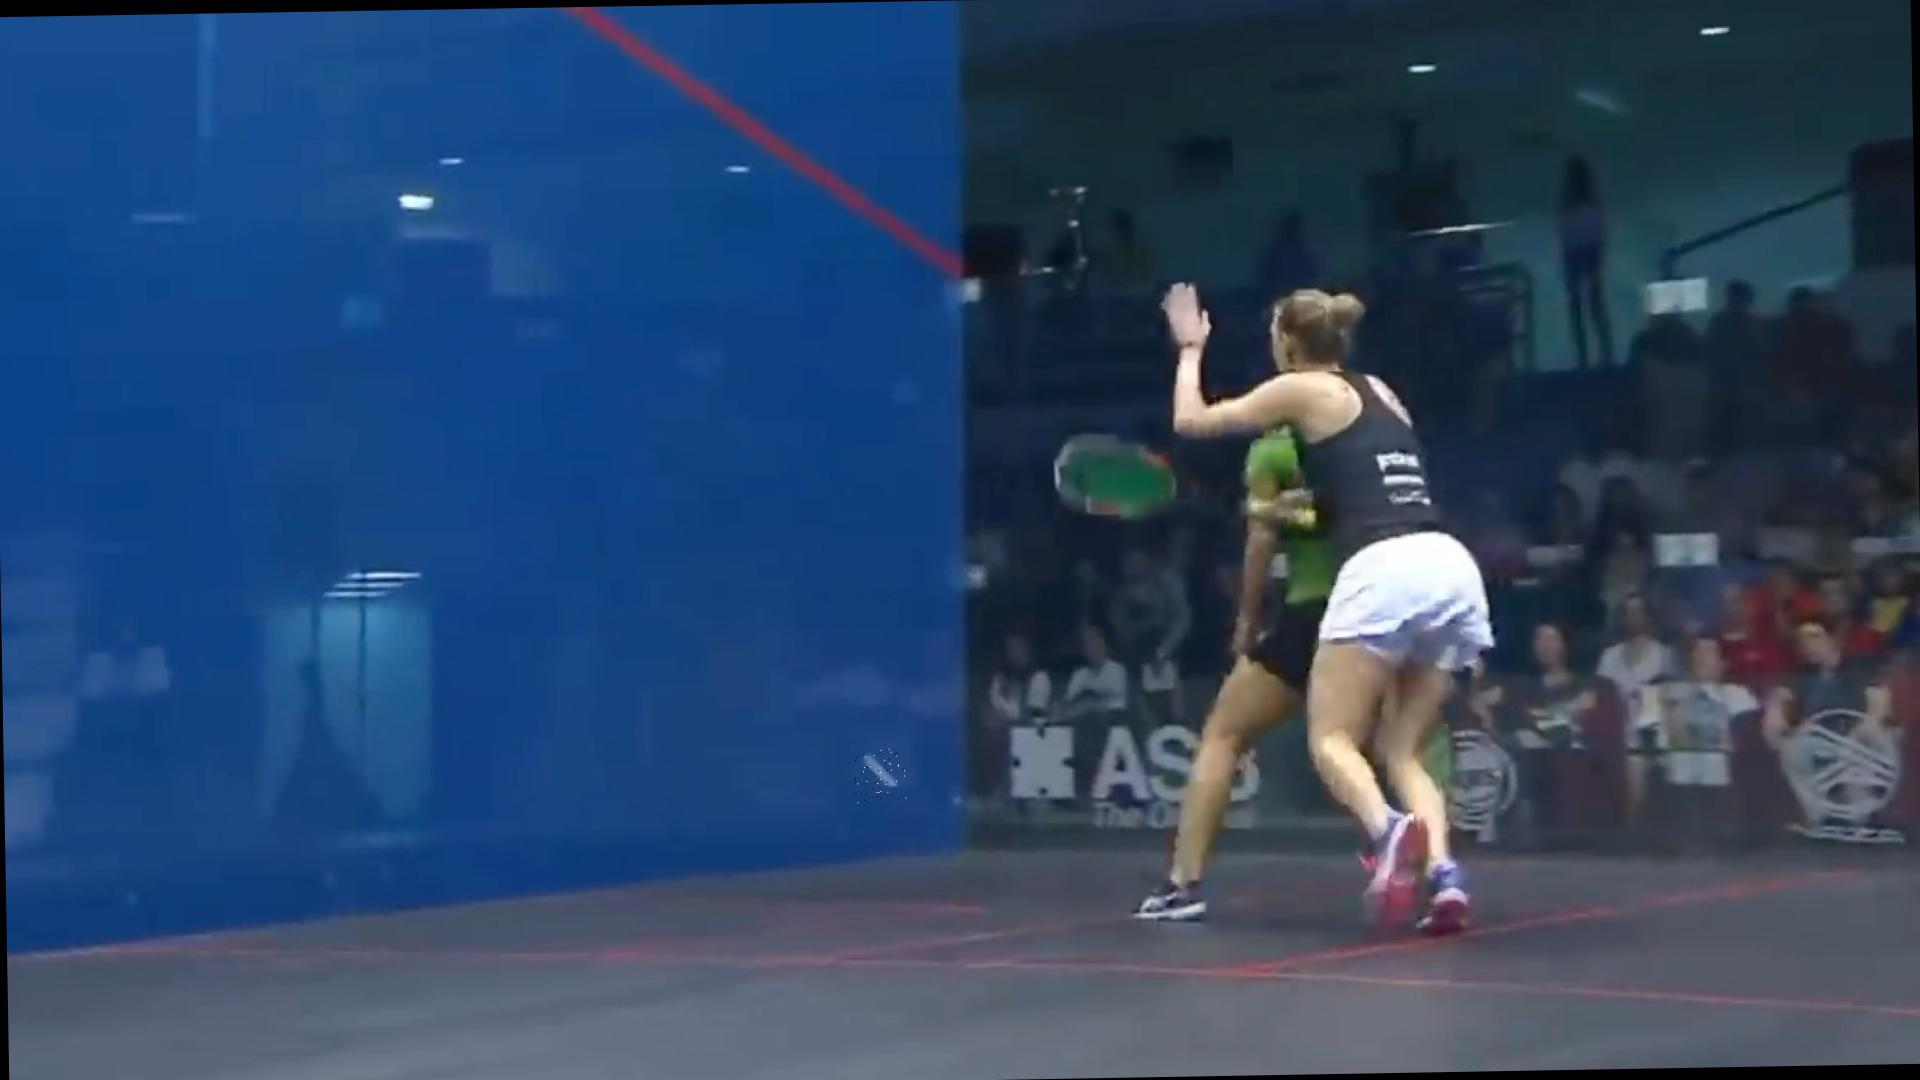Squash-Ball: (853, 748, 906, 803)
